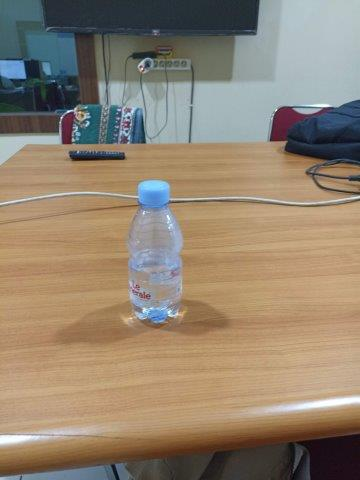botolplastik: (127, 180, 183, 323)
